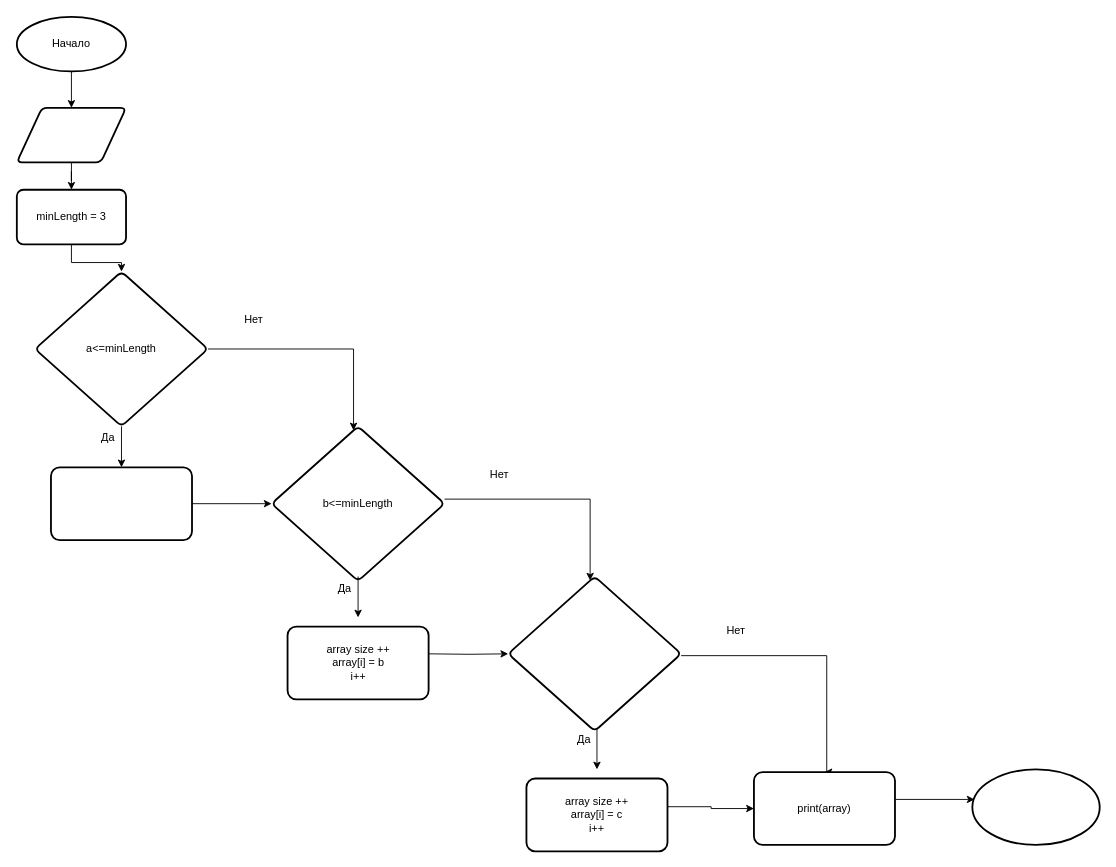
This 1116x867 diagram has some shape labels left out. Here are the shapes that lost their labels. From the top down, the box of each, then its label:
(15, 106, 126, 163): a, b, c array[] i = 0
(50, 466, 192, 541): array size++ array[i] = a i++
(507, 575, 682, 732): c<=minLength
(971, 768, 1100, 845): Конец
